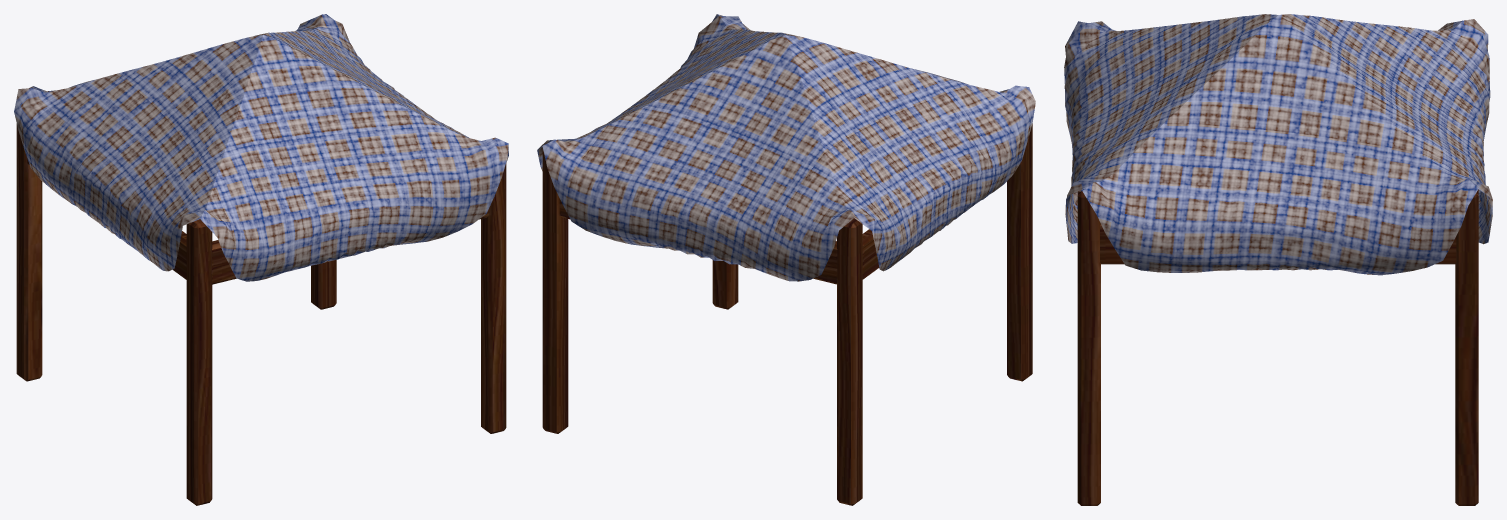
The model's file is MarketTent.fbx.
3 renders of one model, left to right at view 1: azimuth 30°, elevation 25°; view 2: azimuth 150°, elevation 25°; view 3: azimuth 270°, elevation 25°, orthographic. The views are drawn at different scales.
Parts seen in each view (by area): view 1: MarketTent_Frame; view 2: MarketTent_Frame; view 3: MarketTent_Frame.
Part boxes in pixels (<box>): MarketTent_Frame: <box>14,14,508,505</box>; MarketTent_Frame: <box>537,14,1035,505</box>; MarketTent_Frame: <box>1064,14,1492,505</box>.
Size of the model in its own units: 453 by 478 by 454.
Materials: 2 (2 with a texture image).
